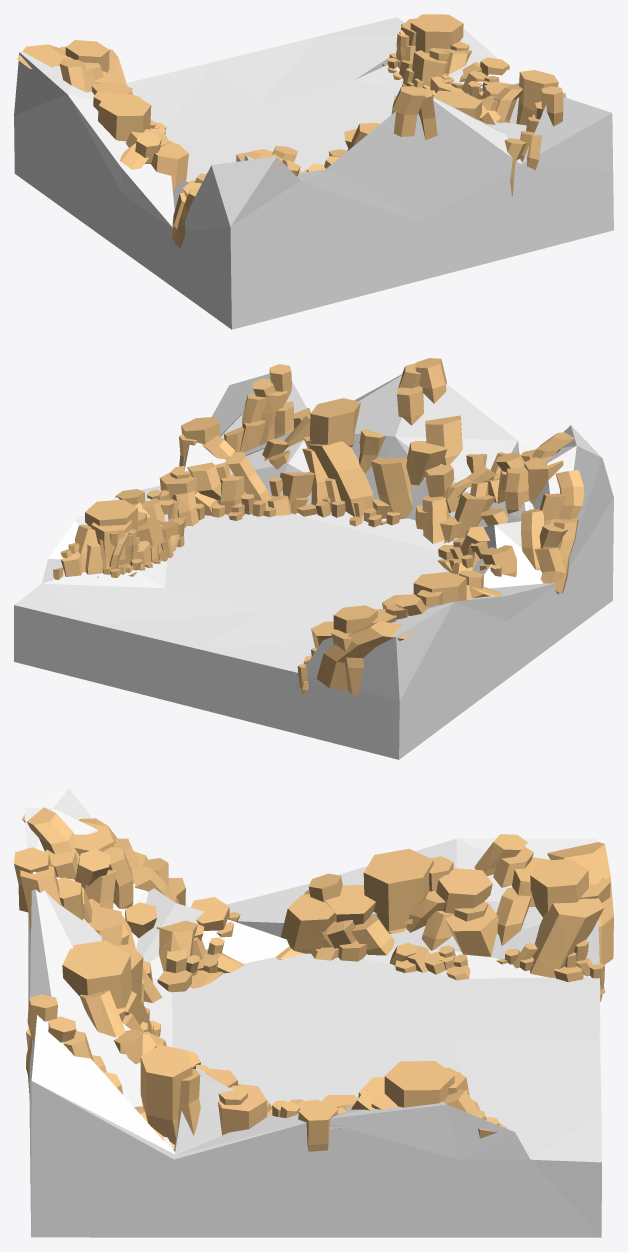
File: christmasTerrainCorner.dae
The picture shows the model from 3 angles, top to bottom: view 1: azimuth 30°, elevation 25°; view 2: azimuth 150°, elevation 25°; view 3: azimuth 270°, elevation 25°; orthographic projection. The views are drawn at different scales.
Parts seen in each view (by area): view 1: snowTerrainCorner; view 2: snowTerrainCorner; view 3: snowTerrainCorner.
Boxes of the visible parts, box(x1,y1,x2,y2) form: snowTerrainCorner: box(14, 14, 613, 329); snowTerrainCorner: box(14, 358, 613, 759); snowTerrainCorner: box(14, 788, 613, 1237).
Bounding box in the file's own units: 1.52 × 1.54 × 0.7369.
